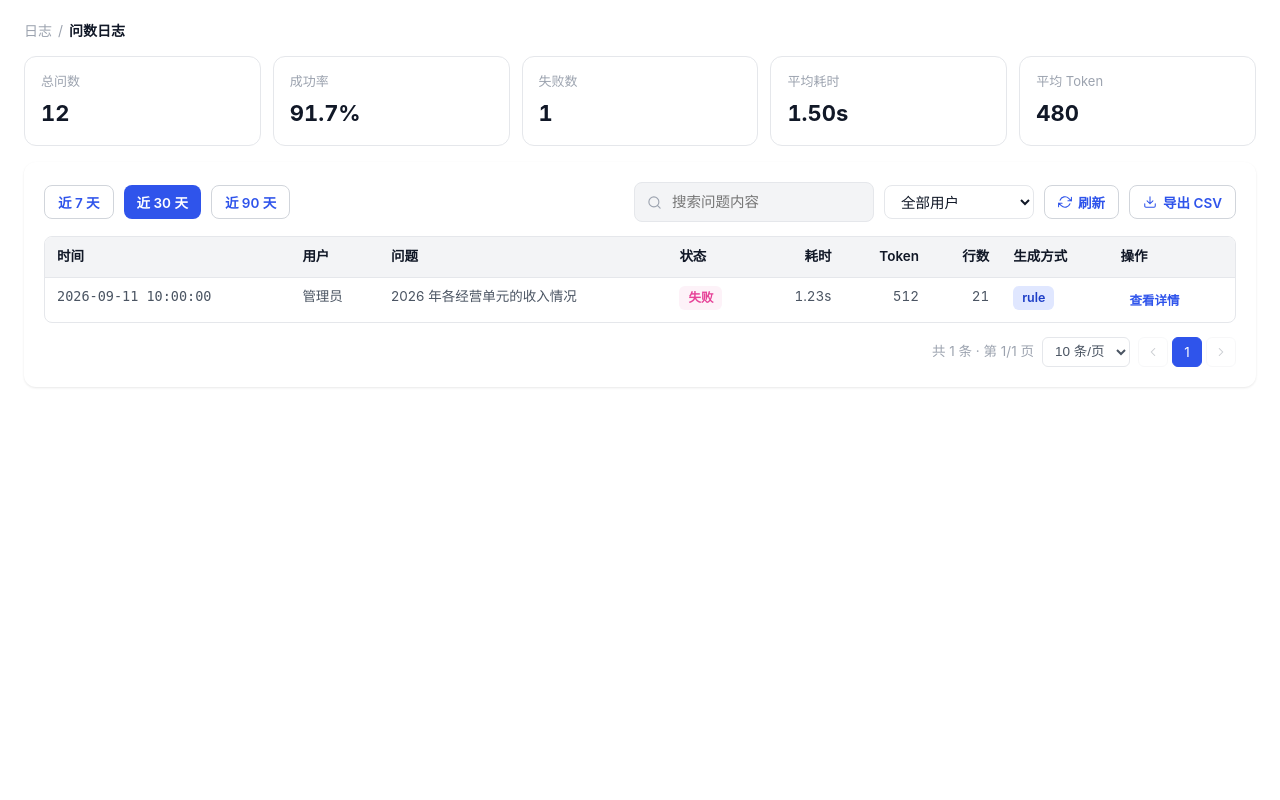
Test case: LogsPage — 详情弹窗 › 失败的记录会在弹窗里说明错误原因
expect the text "2026 年各经营单元的收入情况" is shown: met, box [379, 278, 667, 322]
Click the button "查看详情" at (1154,300), box [1120, 286, 1188, 314]
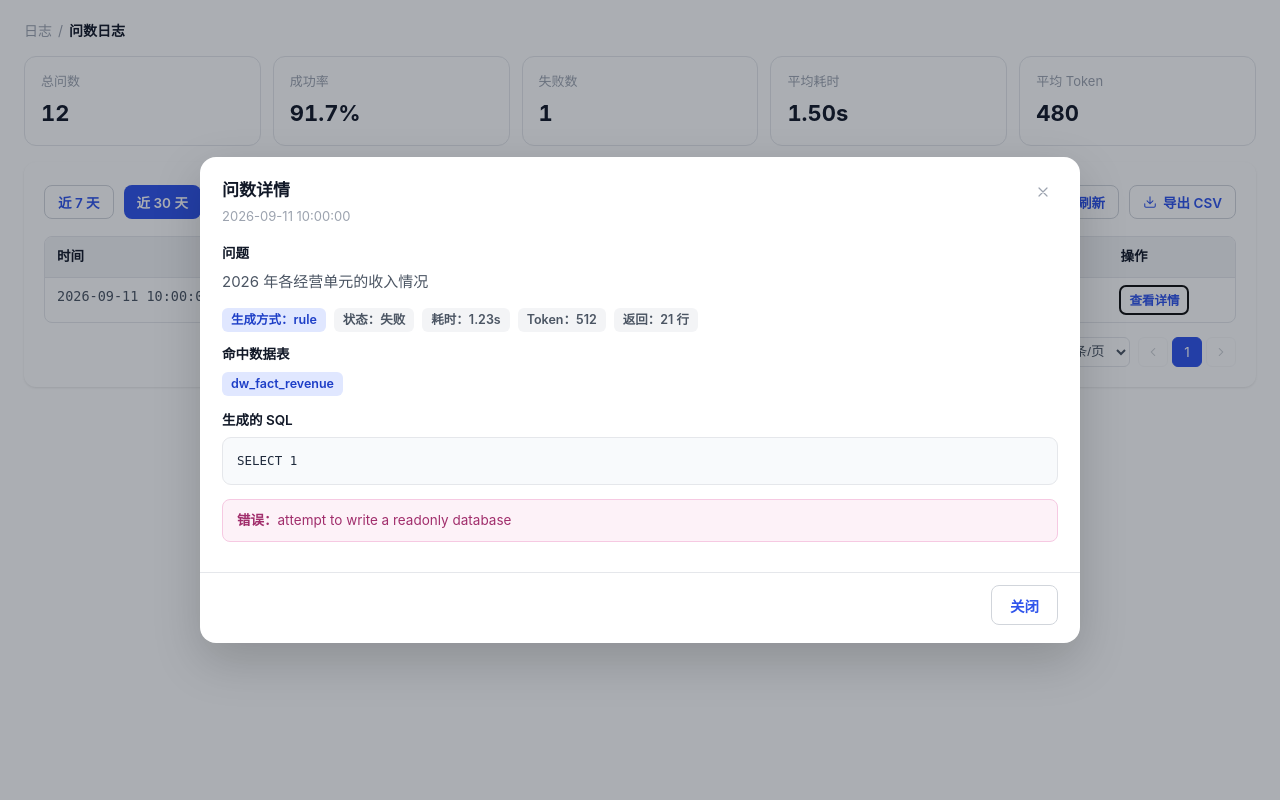
expect the text "attempt to write a readonly database" is shown: met, box [278, 512, 511, 528]
